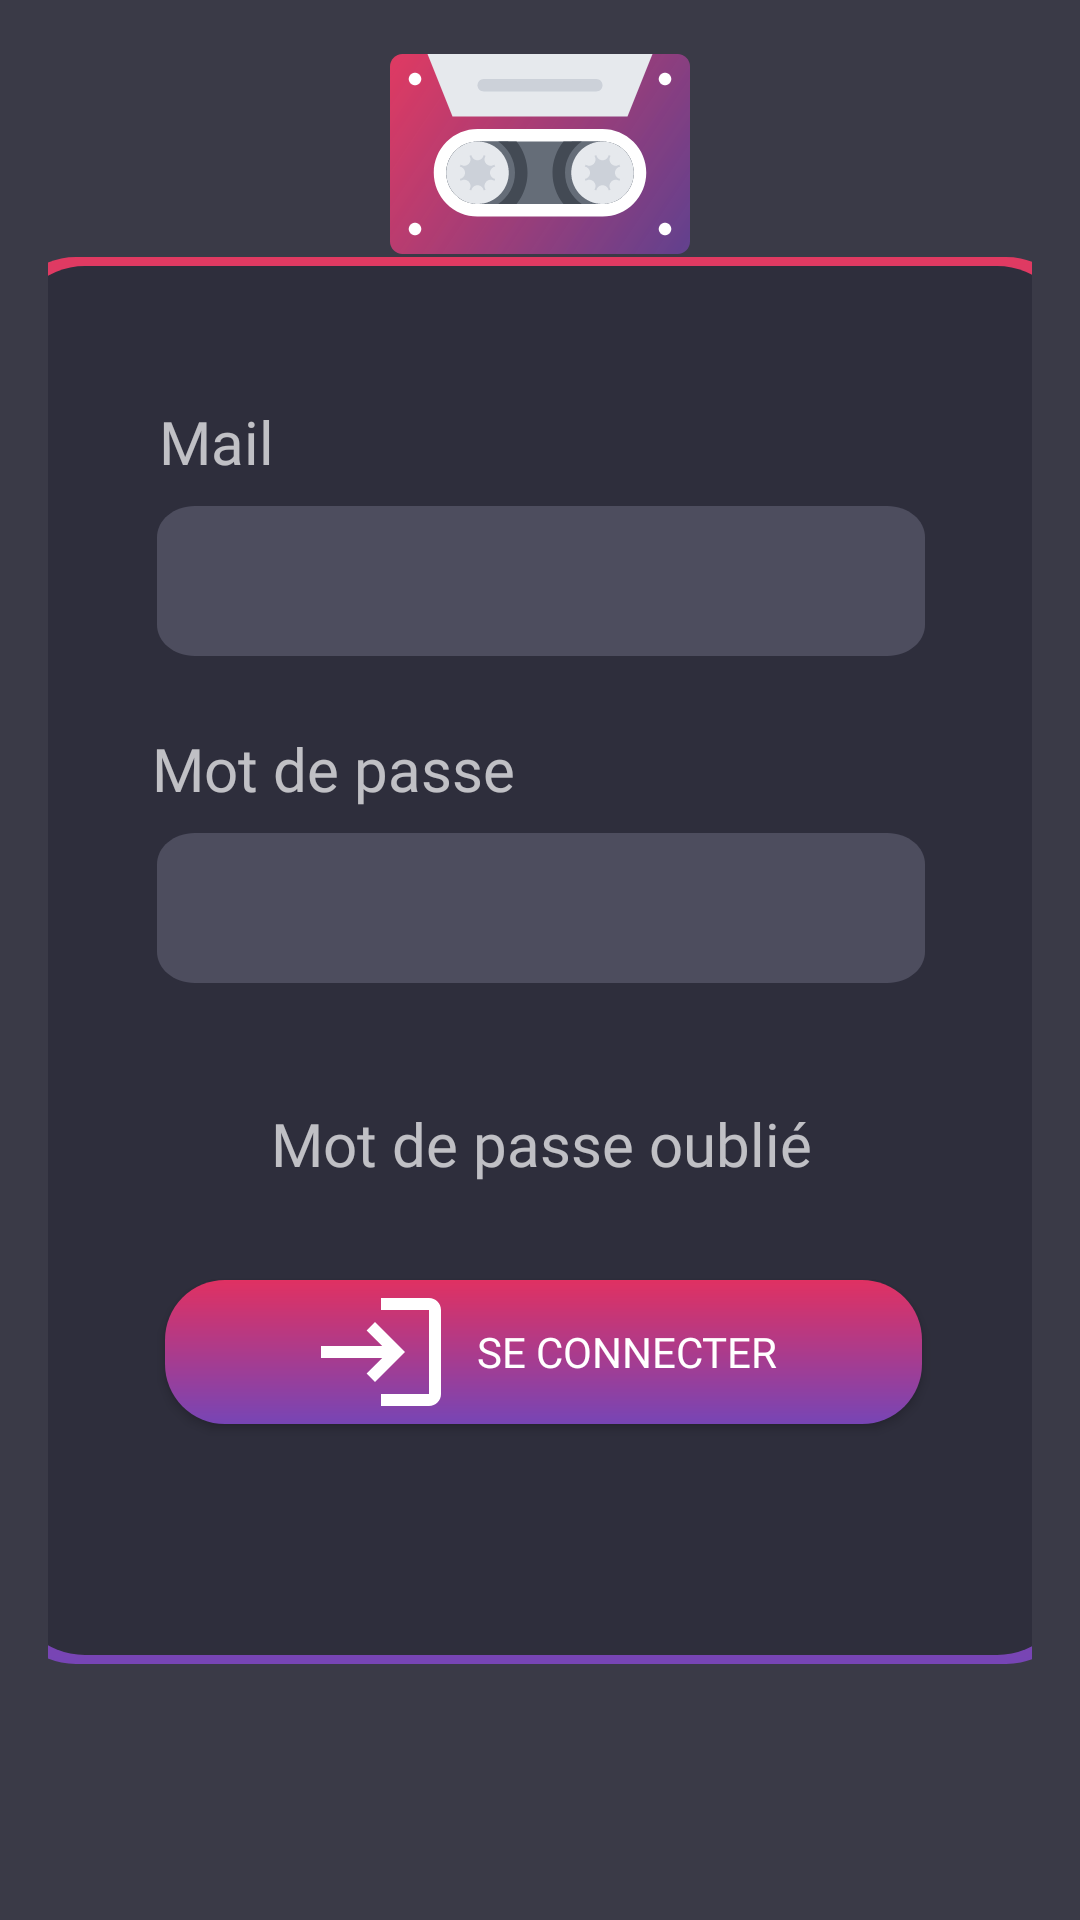

Icons on this 1080x1920 Android screen, each with its box as (x1, y1, x2, y2):
App icons: (390, 54, 690, 254)
